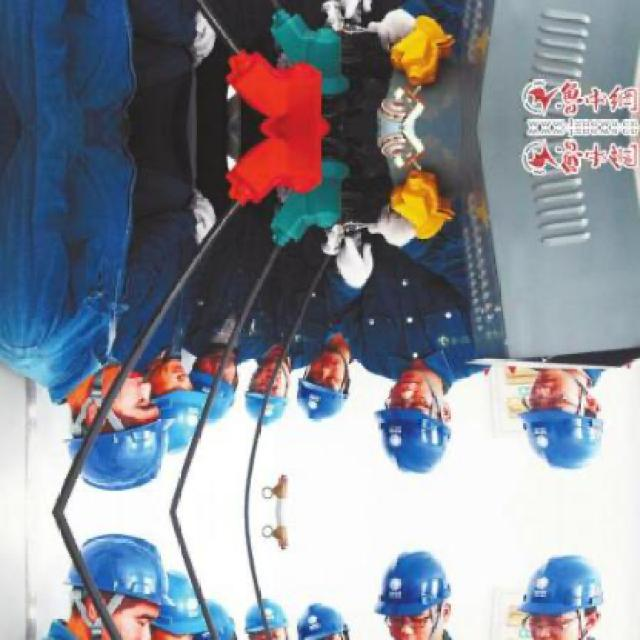con casco: (498, 351, 638, 468), (48, 379, 160, 510), (378, 384, 464, 482), (118, 368, 203, 467), (278, 368, 359, 432), (176, 382, 227, 444), (243, 379, 290, 439)
